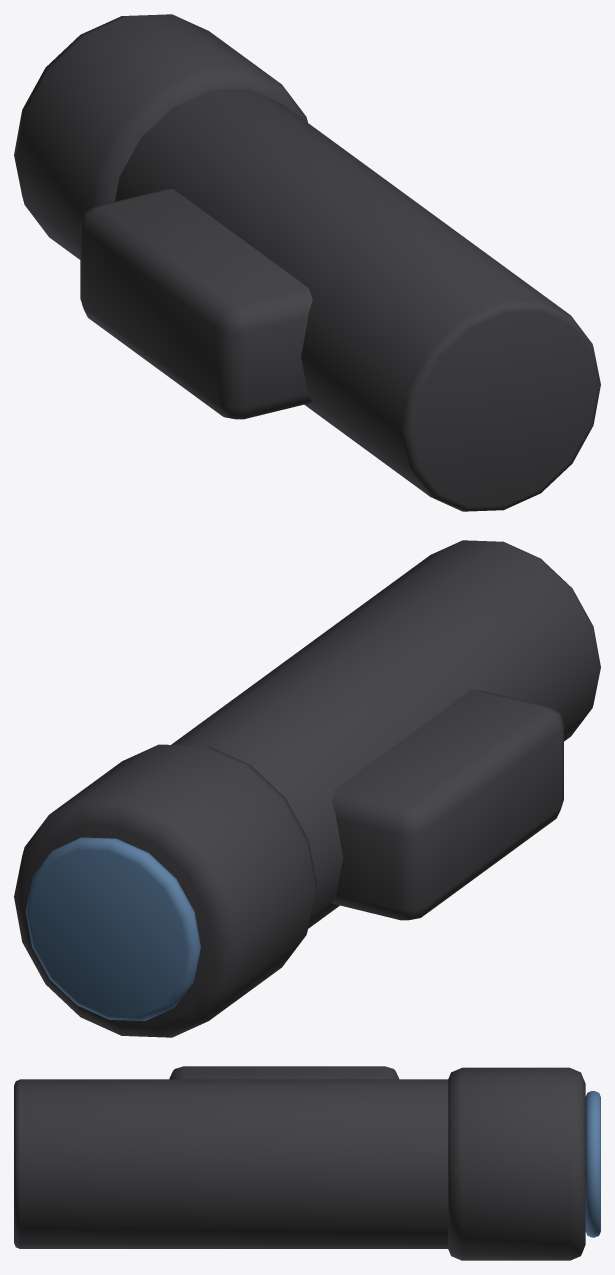
The model's file is att_flashlight_pistol.glb.
3 renders of one model, top to bottom at view 1: azimuth 30°, elevation 25°; view 2: azimuth 150°, elevation 25°; view 3: azimuth 270°, elevation 25°, orthographic. The views are drawn at different scales.
Parts seen in each view (by area): view 1: att_flashlight_pistol; view 2: att_flashlight_pistol; view 3: att_flashlight_pistol.
Part boxes in pixels (x1,y1,x2,y2): att_flashlight_pistol: (14, 14, 600, 511); att_flashlight_pistol: (14, 540, 600, 1037); att_flashlight_pistol: (14, 1066, 600, 1260).
Bounding box in the file's own units: 0.0315 × 0.025 × 0.076.
